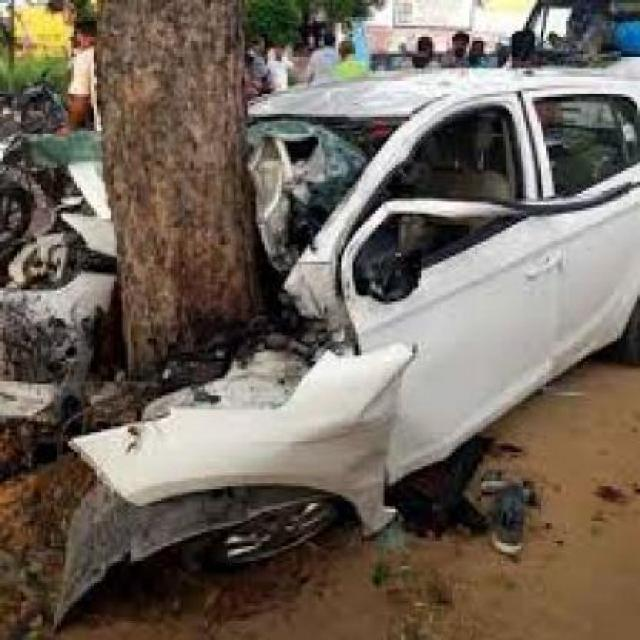accident: (6, 40, 640, 589)
